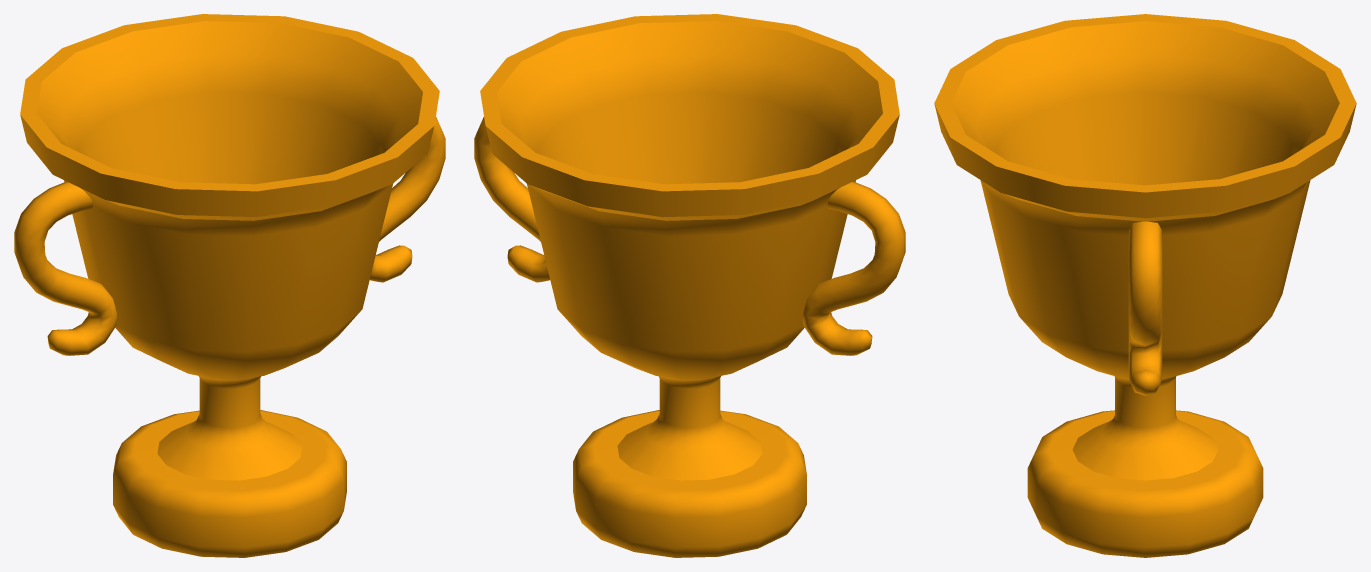
File: cup_001.fbx
The picture shows the model from 3 angles, left to right: view 1: azimuth 30°, elevation 25°; view 2: azimuth 150°, elevation 25°; view 3: azimuth 270°, elevation 25°; orthographic projection.
Parts seen in each view (by area): view 1: cup_001; view 2: cup_001; view 3: cup_001.
Part boxes in pixels (x1,y1,x2,y2): cup_001: (14,14,445,557); cup_001: (474,14,905,557); cup_001: (934,14,1356,557).
Bounding box in the file's own units: 1342 × 1153 × 1244.
